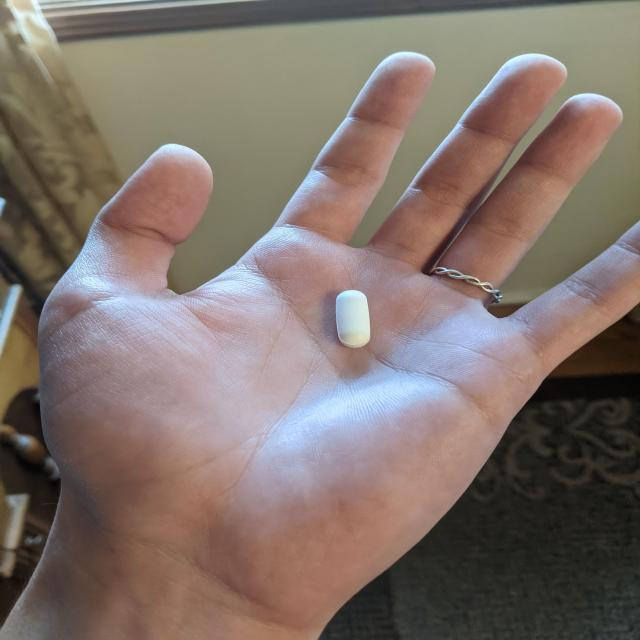non-organic waste: (334, 289, 372, 349)
